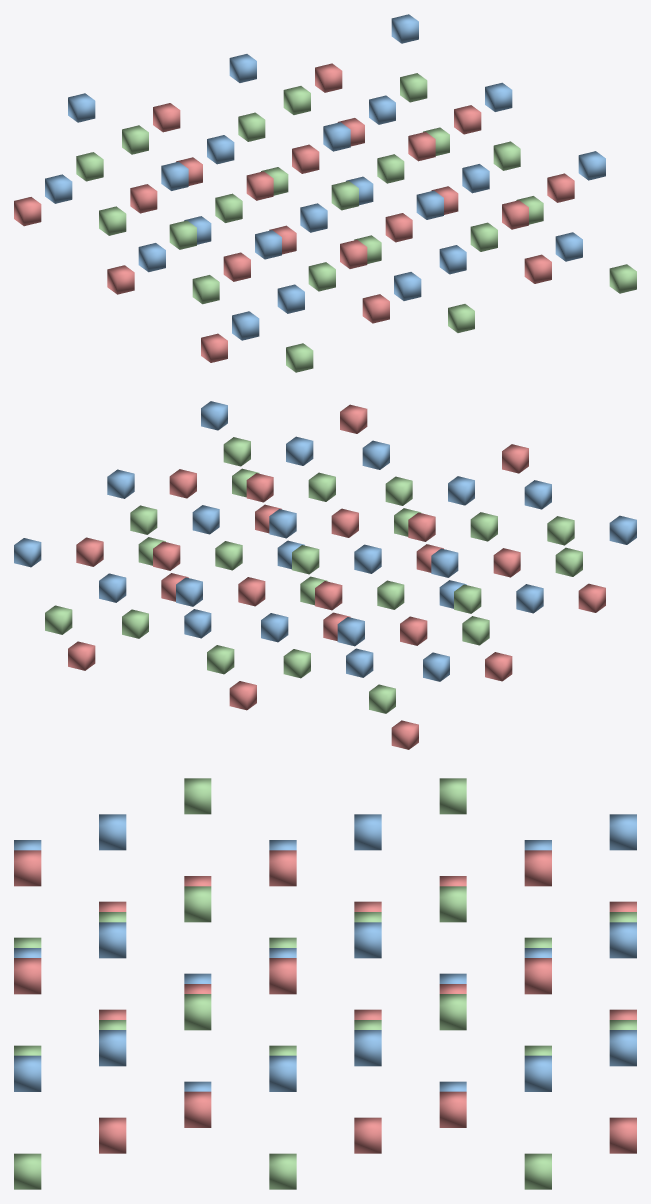
File: test_meta.glb
3 views of the same model, one above another, from view 1: azimuth 30°, elevation 25°; view 2: azimuth 150°, elevation 25°; view 3: azimuth 270°, elevation 25° (orthographic). The views are drawn at different scales.
Size of the model in its own units: 36.6 by 9.6 by 36.6.
